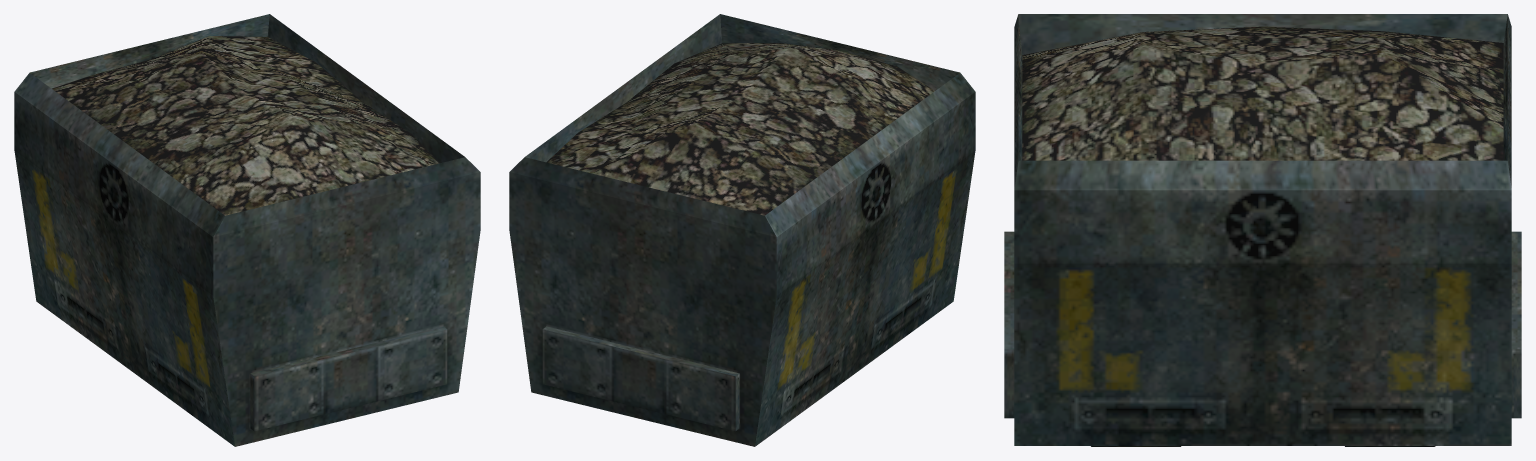
Rendered from bunker_mine_bucket_s01_l1.fbx.
The picture shows the model from 3 angles, left to right: view 1: azimuth 30°, elevation 25°; view 2: azimuth 150°, elevation 25°; view 3: azimuth 270°, elevation 25°; orthographic projection. The views are drawn at different scales.
Parts seen in each view (by area): view 1: mesh_node; view 2: mesh_node; view 3: mesh_node.
Boxes of the visible parts, <box> form: mesh_node: <box>14,14,480,446</box>; mesh_node: <box>509,14,975,446</box>; mesh_node: <box>1004,14,1521,446</box>.
Bounding box in the file's own units: 1.66 × 1.66 × 2.22.
